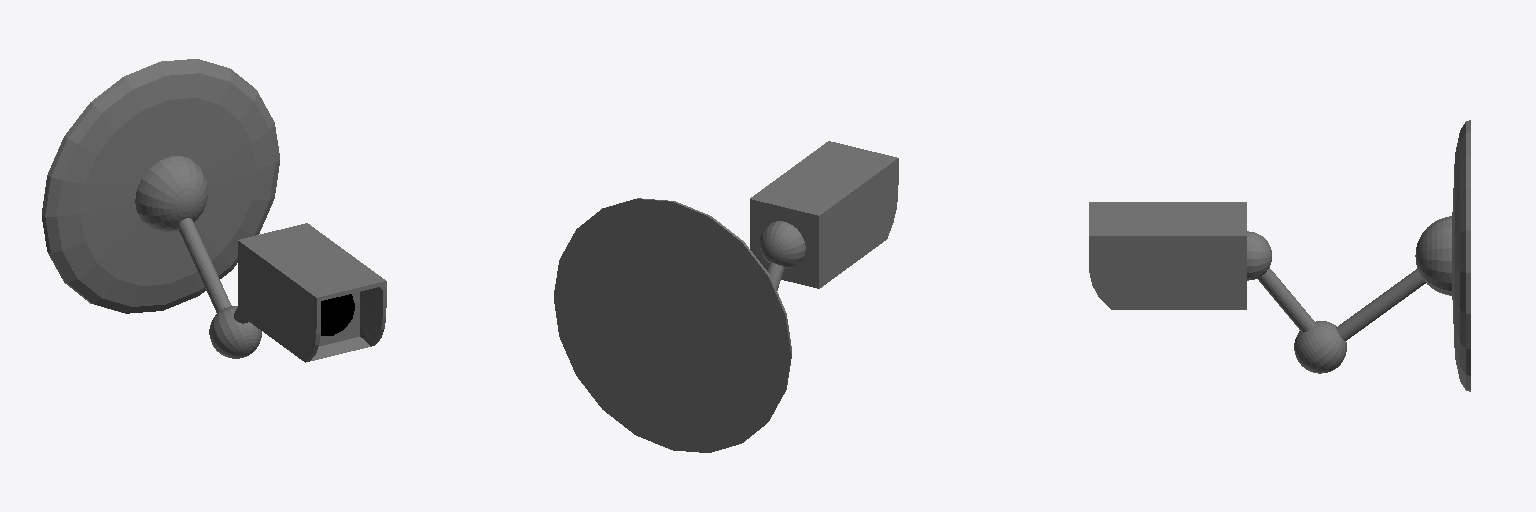
File: Camara3.obj
3 renders of one model, left to right at view 1: azimuth 30°, elevation 25°; view 2: azimuth 150°, elevation 25°; view 3: azimuth 270°, elevation 25°, orthographic.
Visible parts, largest first — view 1: polySurface17, polySurface17 polySurface10 polySurface13 polySurface12 polySurf, polySurface17 polySurface10, polySurface17 polySurface10 polySurface13 polySurface12, polySurface17 polySurface10 polySurface13; view 2: polySurface17, polySurface17 polySurface10 polySurface13 polySurface12 polySurf; view 3: polySurface17 polySurface10 polySurface13 polySurface12 polySurf, polySurface17, polySurface17 polySurface10, polySurface17 polySurface10 polySurface13 polySurface12, polySurface17 polySurface10 polySurface13.
Part boxes in pixels (left/top/right/bottom): polySurface17: left=42, top=59, right=279, bottom=313; polySurface17 polySurface10 polySurface13 polySurface12 polySurf: left=234, top=223, right=386, bottom=362; polySurface17 polySurface10: left=135, top=156, right=207, bottom=231; polySurface17 polySurface10 polySurface13 polySurface12: left=209, top=306, right=261, bottom=358; polySurface17 polySurface10 polySurface13: left=177, top=218, right=231, bottom=312; polySurface17: left=554, top=198, right=791, bottom=452; polySurface17 polySurface10 polySurface13 polySurface12 polySurf: left=750, top=141, right=898, bottom=290; polySurface17 polySurface10 polySurface13 polySurface12 polySurf: left=1089, top=202, right=1315, bottom=332; polySurface17: left=1452, top=120, right=1470, bottom=391; polySurface17 polySurface10: left=1415, top=216, right=1451, bottom=295; polySurface17 polySurface10 polySurface13 polySurface12: left=1294, top=321, right=1346, bottom=373; polySurface17 polySurface10 polySurface13: left=1336, top=269, right=1425, bottom=340.
Bounding box in the file's own units: 6.8 × 6.8 × 9.49.